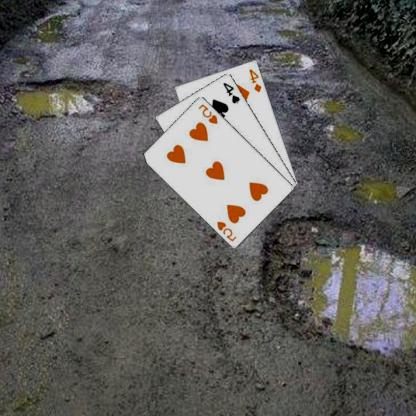4D: (248, 66, 265, 94)
4S: (223, 80, 243, 105)
5H: (216, 218, 240, 242), (198, 101, 220, 125)
